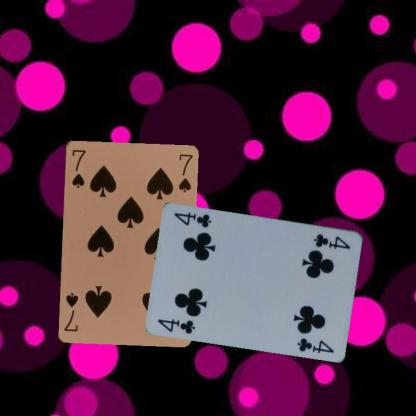4c: (311, 231, 352, 251), (156, 316, 196, 335)
7s: (69, 147, 87, 189)
